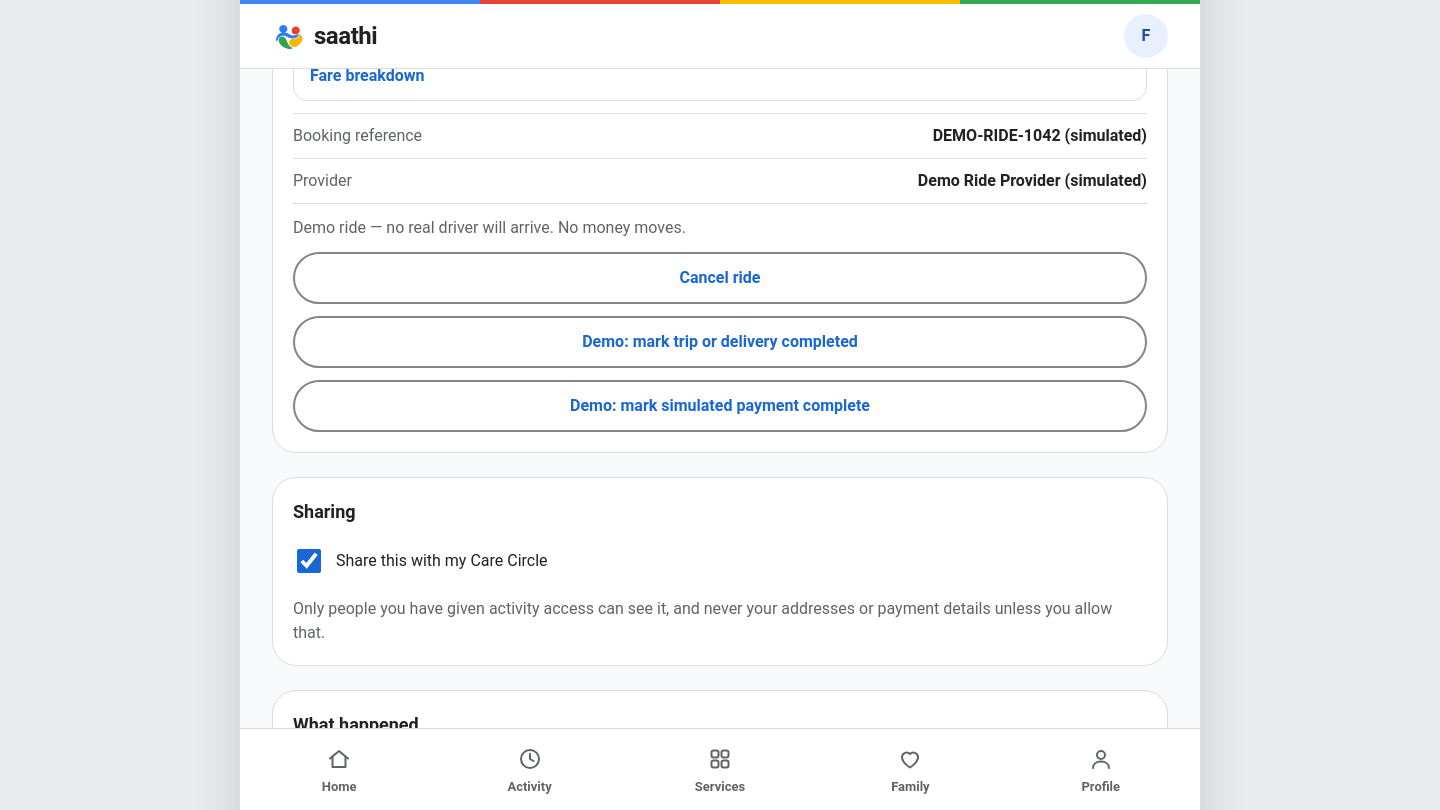
it: a refresh failure cannot turn a confirmed payment into a failure or leave a duplicate payment button
(page scrolled)
Click the button "Demo: mark simulated payment complete": (720, 406) [293, 380, 1147, 432]
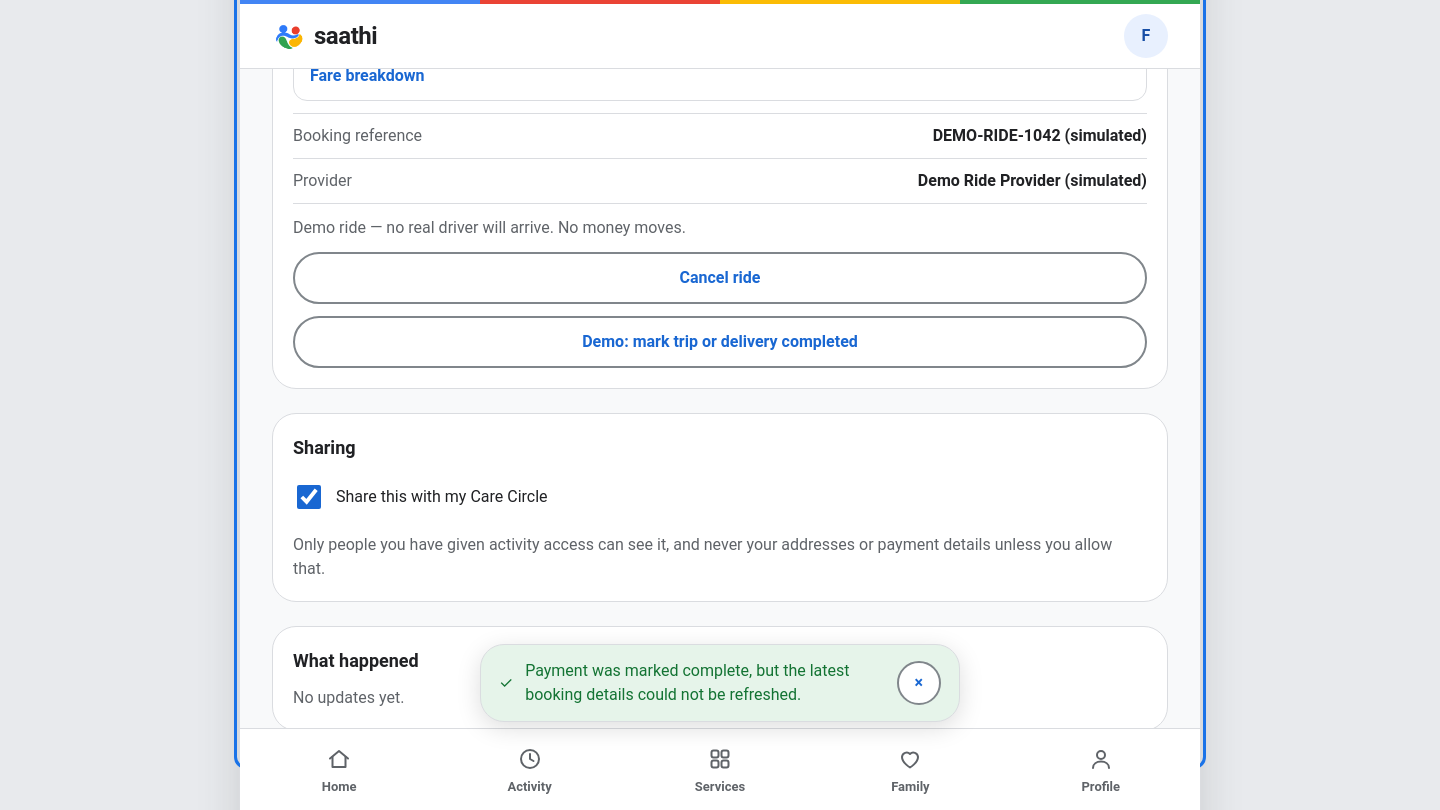
Expected: the text "Payment was marked complete, but the latest booking details could not be refreshed." is shown, [525, 661, 850, 704]
Expected: the button "Demo: mark simulated payment complete" is gone
